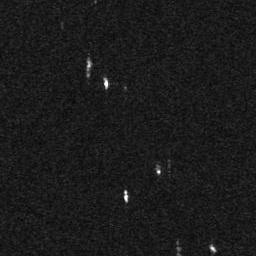ship: (124, 189, 129, 203), (104, 77, 109, 90), (210, 244, 216, 252)
